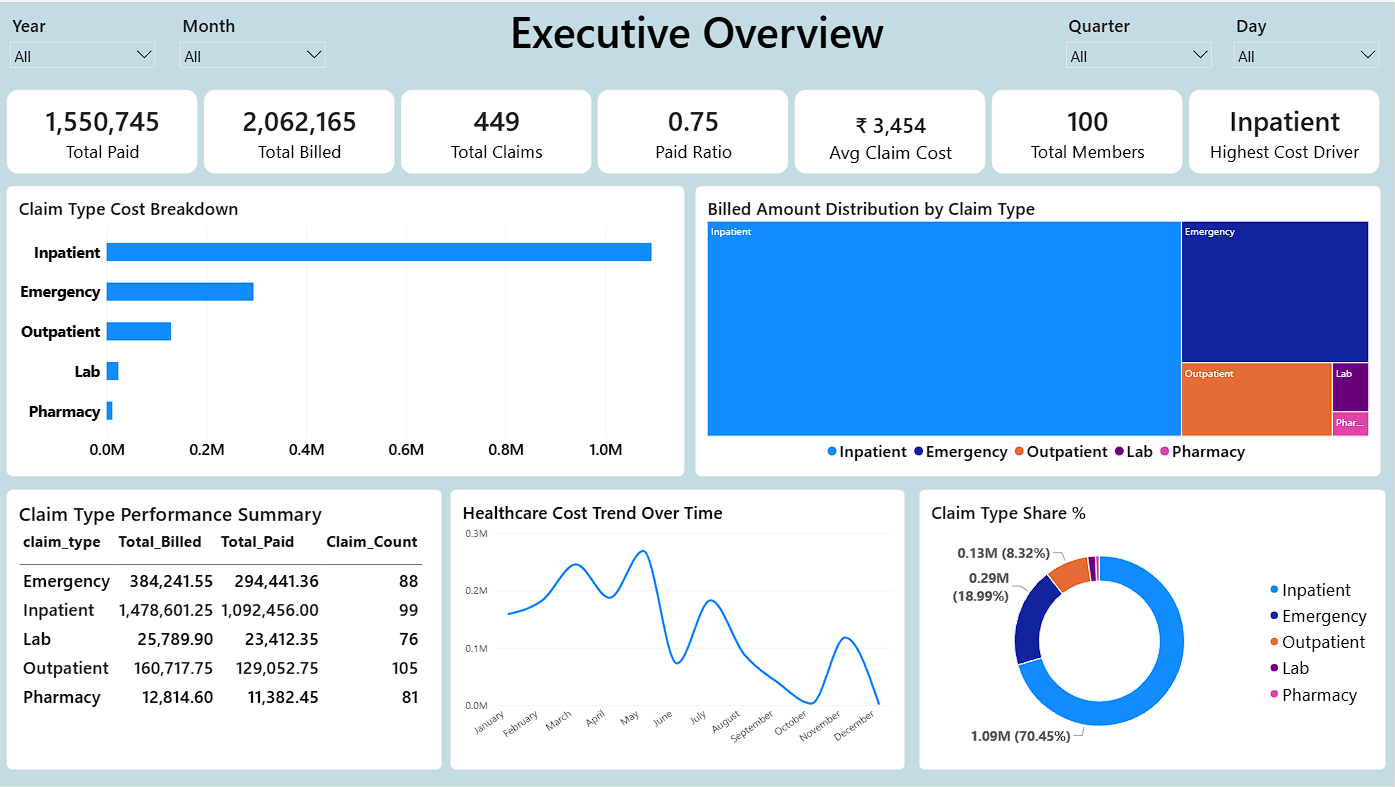

The dashboard page shown, as its layout file describes it:
{"tool":"powerbi","page":{"name":"Executive overview","canvas":[1920,1080],"ordinal":0},"visuals":[{"type":"cardVisual","fields":{"Data":["claims.Total Paid","claims.Total Billed","claims.Total Claims","claims.Paid Ratio","claims.Avg Claim Cost","claims.Total Members","claims.Highest Cost Driver"]},"box":[10.8,121.2,1893.6,116],"z":0},{"type":"clusteredBarChart","title":"Claim Type Cost Breakdown","fields":{"Category":["claims.claim_type"],"Y":["claims.Total Paid"]},"box":[10.8,253.2,932.7,400.4],"z":1000},{"type":"donutChart","title":"Claim Type Share %","fields":{"Category":["vw_ClaimTypeAnalysis.claim_type"],"Y":["Sum(vw_ClaimTypeAnalysis.Total_Paid)"]},"box":[1266,670.9,642.8,385.2],"z":2000},{"type":"tableEx","title":"Claim Type Performance Summary","fields":{"Values":["vw_ClaimTypeAnalysis.claim_type","vw_ClaimTypeAnalysis.Total_Billed","vw_ClaimTypeAnalysis.Total_Paid","vw_ClaimTypeAnalysis.Claim_Count"]},"box":[10.8,670.9,599.5,385.2],"z":3000},{"type":"treemap","title":"Billed Amount Distribution by Claim Type","fields":{"Group":["vw_ClaimTypeAnalysis.claim_type"],"Values":["Sum(vw_ClaimTypeAnalysis.Total_Billed)"]},"box":[958.7,253.2,943.6,400.4],"z":4000},{"type":"lineChart","title":"Healthcare Cost Trend Over Time","fields":{"Category":["claims.claim_date.Variation.Date Hierarchy.Year","claims.claim_date.Variation.Date Hierarchy.Quarter","claims.claim_date.Variation.Date Hierarchy.Month"],"Y":["Sum(claims.paid_amount)"]},"box":[621.1,670.9,625.4,385.2],"z":5000},{"type":"textbox","box":[668.9,0,582.2,90.9],"z":6000},{"type":"slicer","fields":{"Values":["claims.claim_date.Variation.Date Hierarchy.Year"]},"box":[10.8,15.1,209.9,90.9],"z":7000},{"type":"slicer","fields":{"Values":["claims.claim_date.Variation.Date Hierarchy.Month"]},"box":[244.5,15.1,209.9,90.9],"z":8000},{"type":"slicer","fields":{"Values":["claims.claim_date.Variation.Date Hierarchy.Day"]},"box":[1694.5,15.1,209.9,90.9],"z":9000},{"type":"slicer","fields":{"Values":["claims.claim_date.Variation.Date Hierarchy.Quarter"]},"box":[1463,15.1,209.9,90.9],"z":10000}]}

Visuals, with their boxes in screenshot pixels (x1, y1, x2, y2), scaled from the page's 1920x1080 canvas onto the 1395x787 screenshot:
cardVisual - claims.Total Paid x claims.Total Billed: left=8, top=88, right=1384, bottom=173
"Claim Type Cost Breakdown" clusteredBarChart: left=8, top=185, right=686, bottom=476
"Claim Type Share %" donutChart: left=920, top=489, right=1387, bottom=770
"Claim Type Performance Summary" tableEx: left=8, top=489, right=443, bottom=770
"Billed Amount Distribution by Claim Type" treemap: left=697, top=185, right=1382, bottom=476
"Healthcare Cost Trend Over Time" lineChart: left=451, top=489, right=906, bottom=770
textbox: left=486, top=0, right=909, bottom=66
slicer - claims.claim_date.Variation.Date Hierarchy.Year: left=8, top=11, right=160, bottom=77
slicer - claims.claim_date.Variation.Date Hierarchy.Month: left=178, top=11, right=330, bottom=77
slicer - claims.claim_date.Variation.Date Hierarchy.Day: left=1231, top=11, right=1384, bottom=77
slicer - claims.claim_date.Variation.Date Hierarchy.Quarter: left=1063, top=11, right=1215, bottom=77
